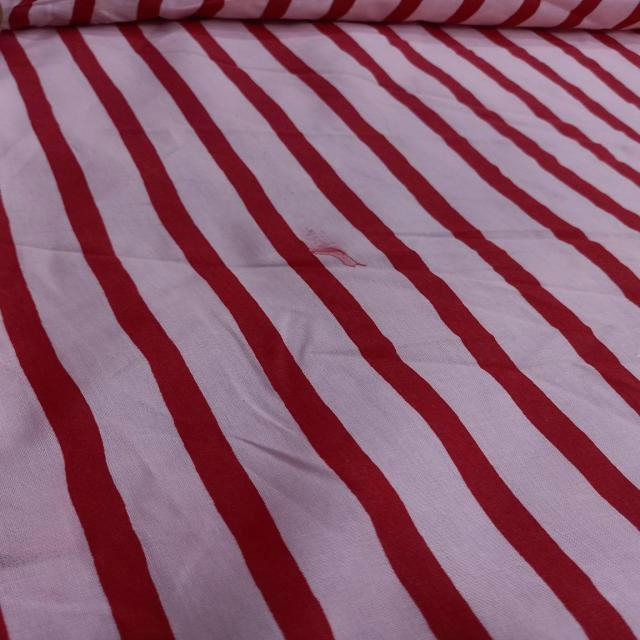stain: (308, 243, 366, 266)
